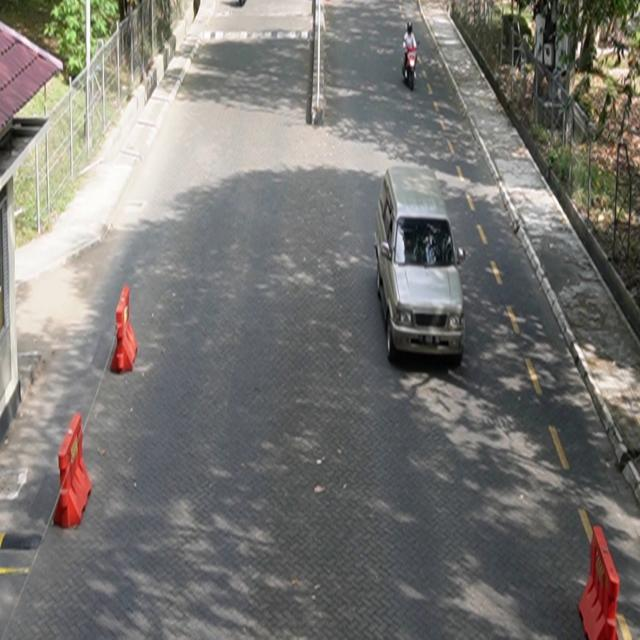car: (374, 163, 467, 365)
